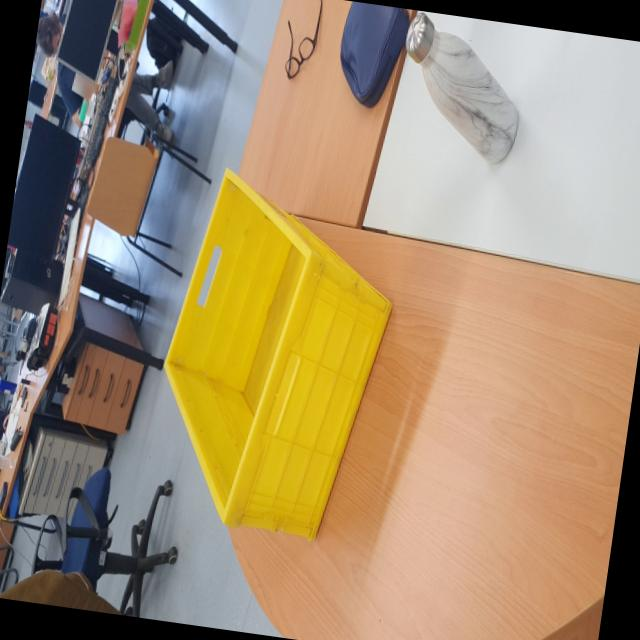box: (132, 148, 413, 555)
